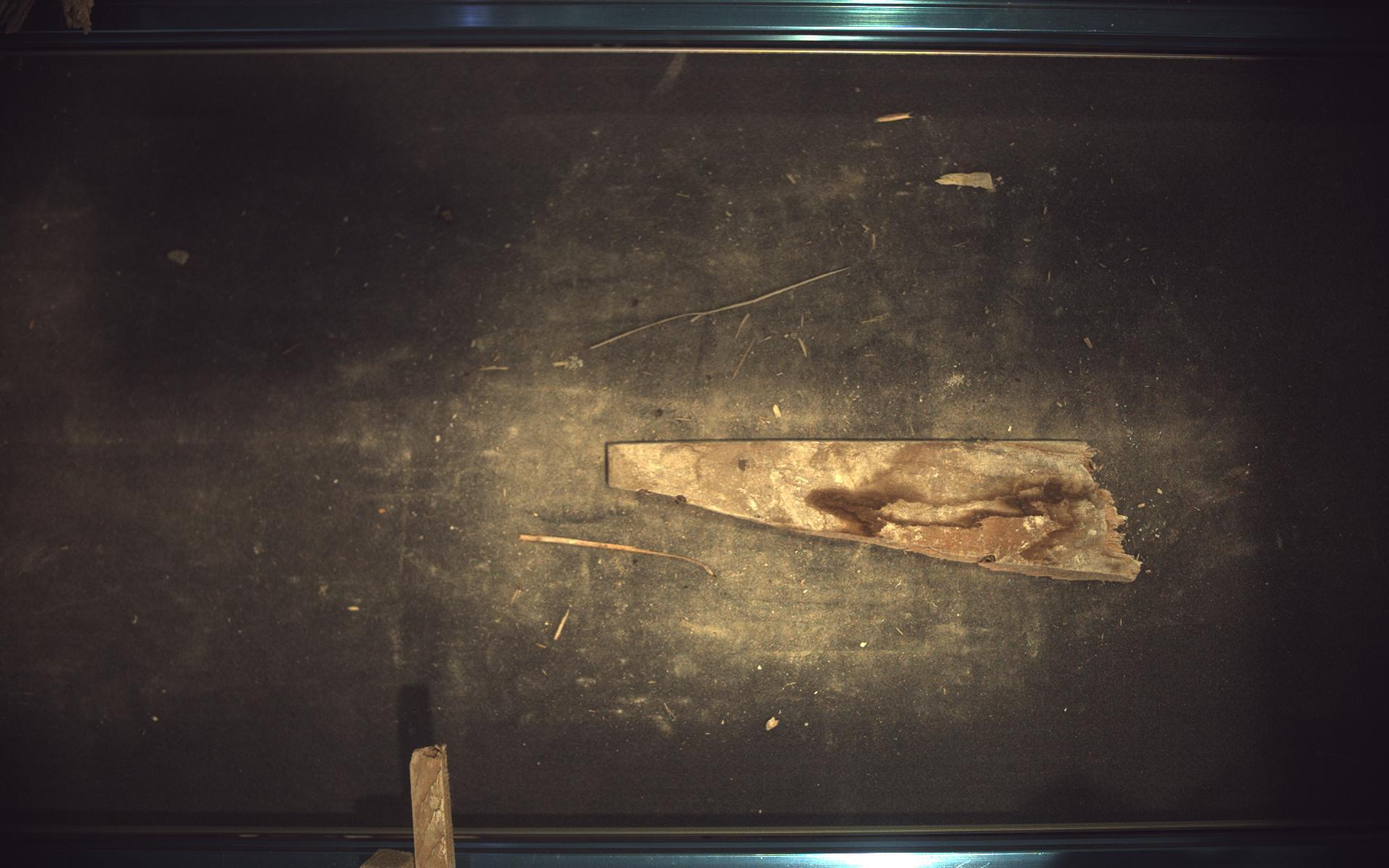wood: (606, 440, 1144, 582), (519, 535, 718, 579), (409, 746, 456, 868), (360, 850, 415, 868)
